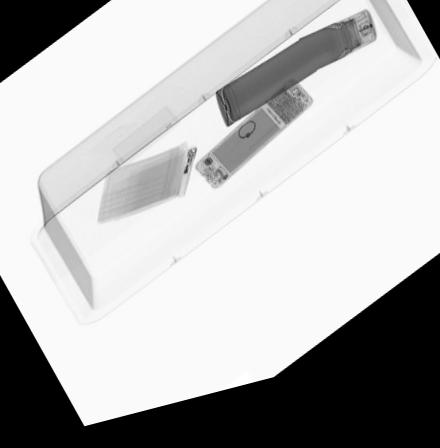Lighter: (173, 155, 199, 210)
